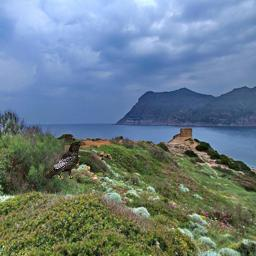Crow: (44, 141, 84, 179)
